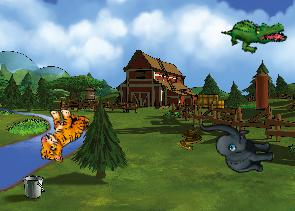crocodile: (220, 6, 289, 62)
elephant: (199, 114, 275, 178)
tiger: (37, 105, 90, 165)
